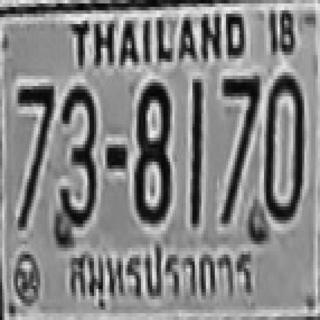N00: (264, 70, 302, 218)
N01: (189, 78, 202, 226)
N03: (55, 84, 95, 229)
N07: (220, 74, 258, 222), (16, 82, 51, 227)
N08: (135, 79, 171, 220)
P57: (58, 231, 263, 308)
